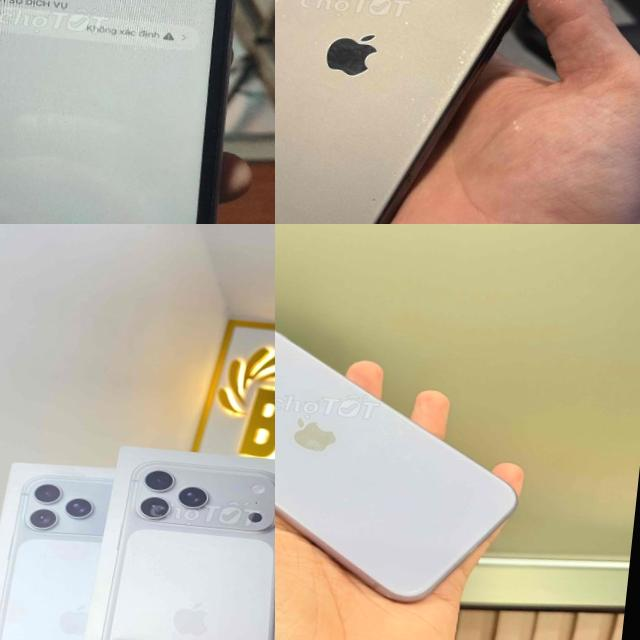gen_11: (275, 296, 545, 616), (275, 0, 565, 224), (0, 0, 271, 224)
gen_17: (91, 438, 275, 640)
scratch: (391, 0, 520, 170), (348, 191, 377, 224)
